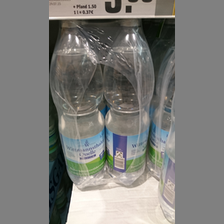water: (51, 22, 107, 190), (104, 20, 154, 185)
